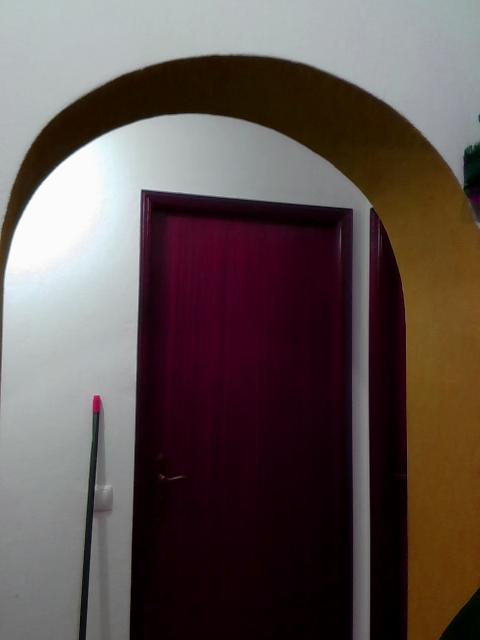closed_door: (129, 183, 355, 639)
